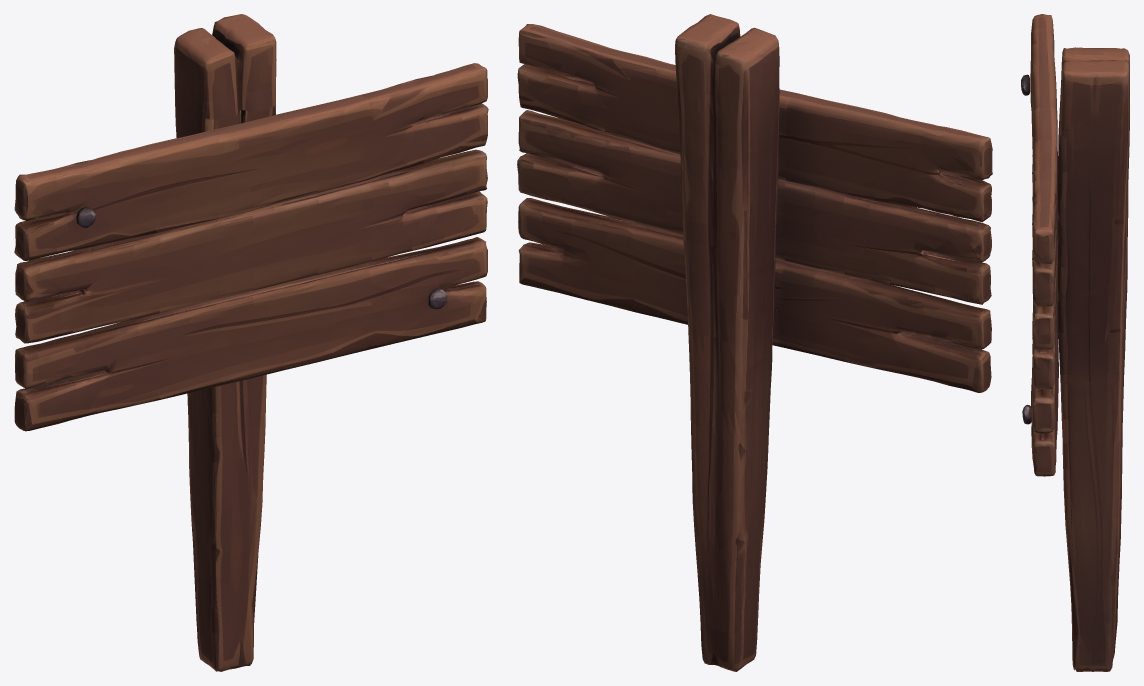
File: cartel_mar.glb
3 views of the same model, side by side, from view 1: azimuth 30°, elevation 25°; view 2: azimuth 150°, elevation 25°; view 3: azimuth 270°, elevation 25° (orthographic). The views are drawn at different scales.
Bounding box in the file's own units: 0.7793 × 1 × 0.1626.
Materials: 1 (1 with a texture image).
